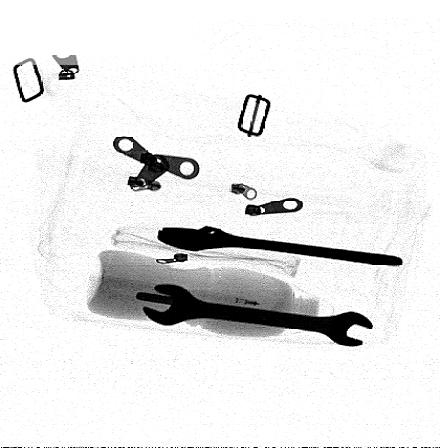Wrench: (141, 284, 374, 348), (156, 225, 404, 266)
